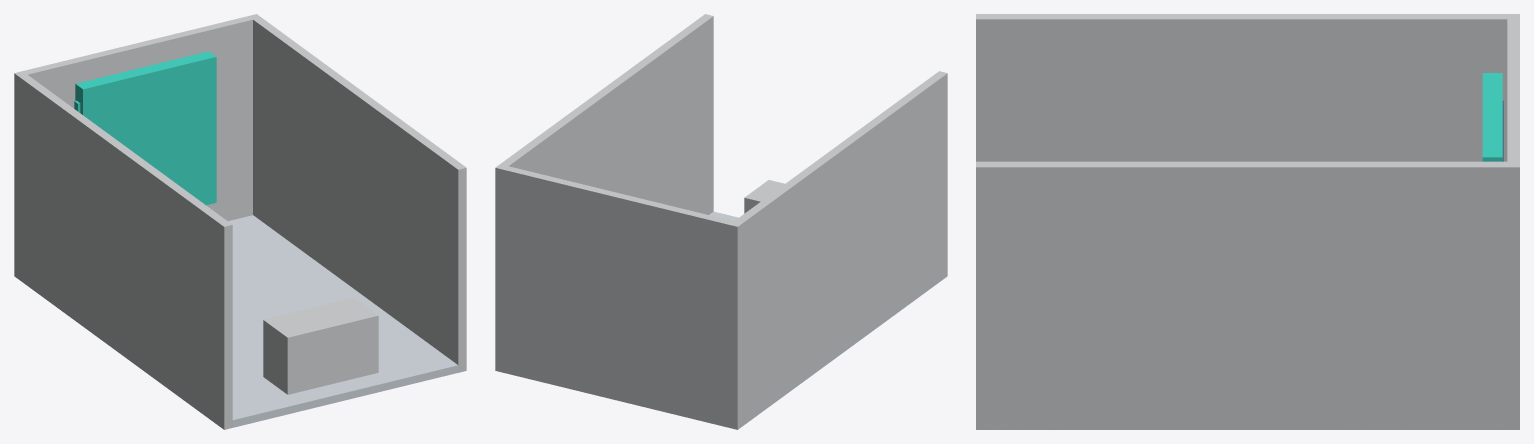
3 views of the same model, side by side, from view 1: azimuth 30°, elevation 25°; view 2: azimuth 150°, elevation 25°; view 3: azimuth 270°, elevation 25° (orthographic). The views are drawn at different scales.
Visible parts, largest first — view 1: Exhibition Booth Concept; view 2: Exhibition Booth Concept; view 3: Exhibition Booth Concept.
Part boxes in pixels (x1,y1,x2,y2): Exhibition Booth Concept: (14,14,466,429); Exhibition Booth Concept: (495,14,947,429); Exhibition Booth Concept: (976,14,1519,429).
Size of the model in its own units: 4 by 3.2 by 6.
